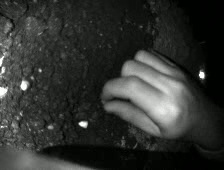corn: (76, 118, 90, 132), (18, 78, 31, 91)
